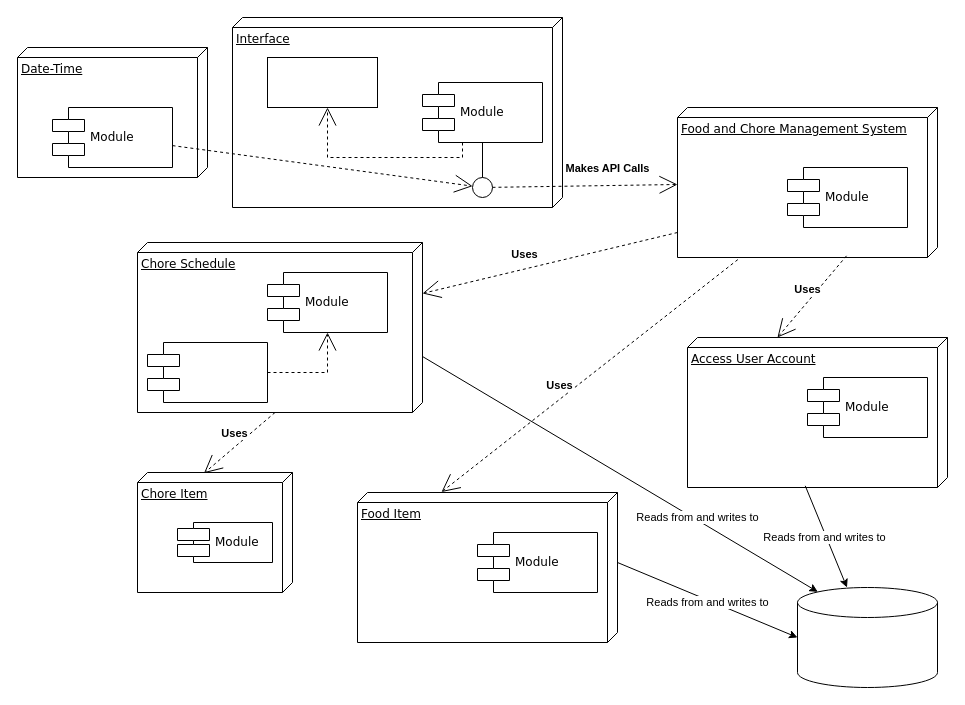
Some shapes in this 965 by 705 pixel diagram are drawn without their labels. The shapes that lost their labels are listed below. From the top down, each one's centre as x and y in pixels, then its label:
At point (322, 82): "Mobile (Android/iOS)".
At point (207, 372): "email".
At point (867, 637): "Database".
